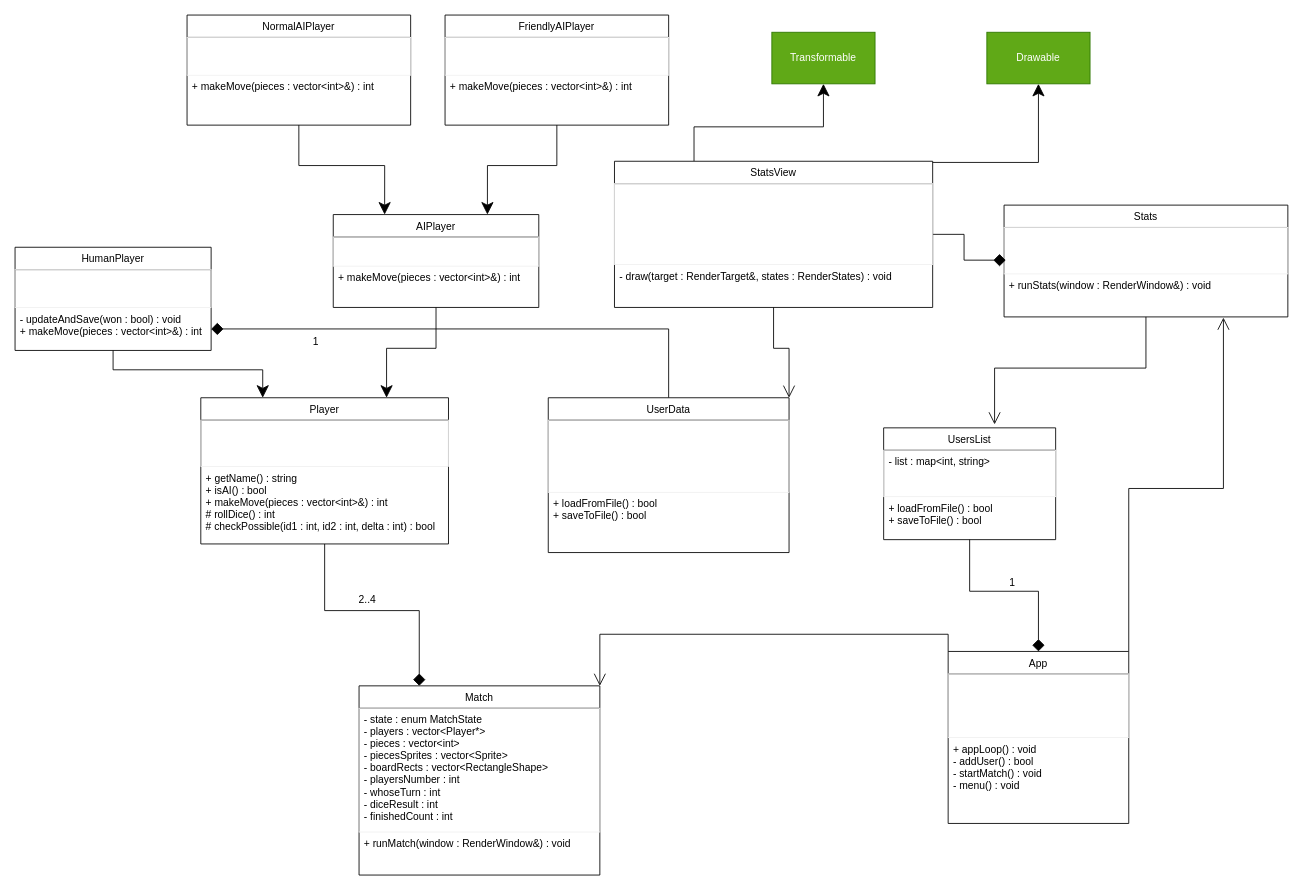
This 1303x893 diagram has some shape labels left out. Each missing label, with the centre of its shape:
"# mod : int" goes at point (435, 251).
"# name : string # isAI : bool # finished : int" goes at point (324, 443).
"- data : UserData" goes at point (112, 288).
"- name : string - gamesNumber : int - victoriesNumber : int" goes at point (668, 455).
"- name : Text - played : Text - won : Text - percentage : Text" goes at point (773, 223).
"- state : enum AppState - window : sf::RenderWindow - users : UsersList" goes at point (1038, 705).
"- statsViews : StatsViews" goes at point (1145, 250).
